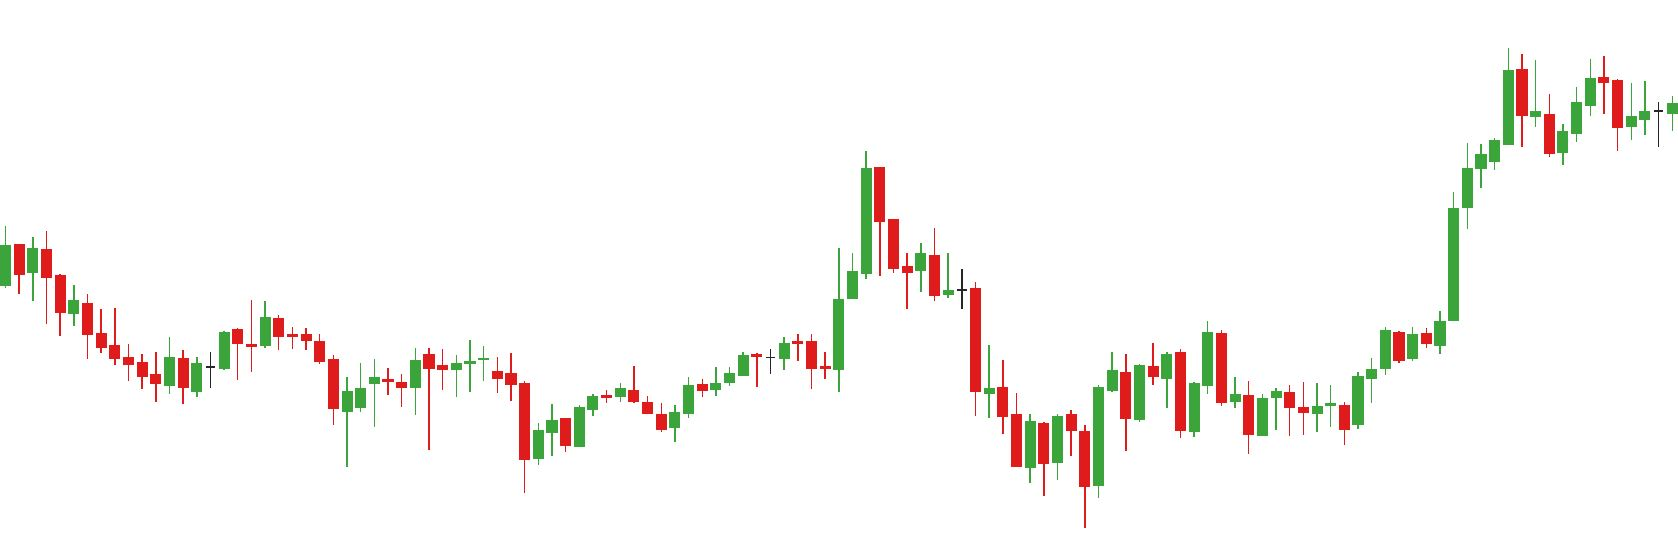buy: (419, 369, 547, 498), (1173, 377, 1272, 454)
